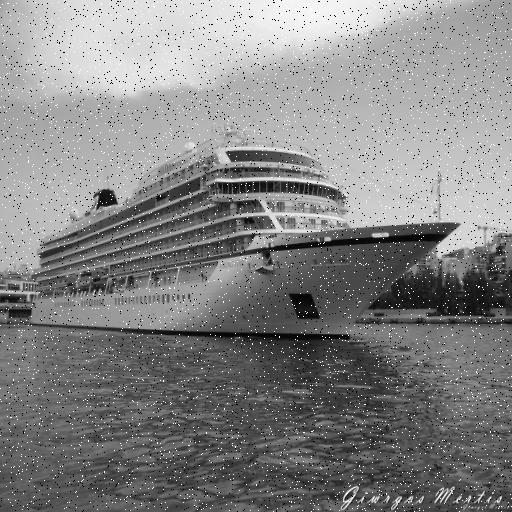cruises: (26, 117, 466, 356)
